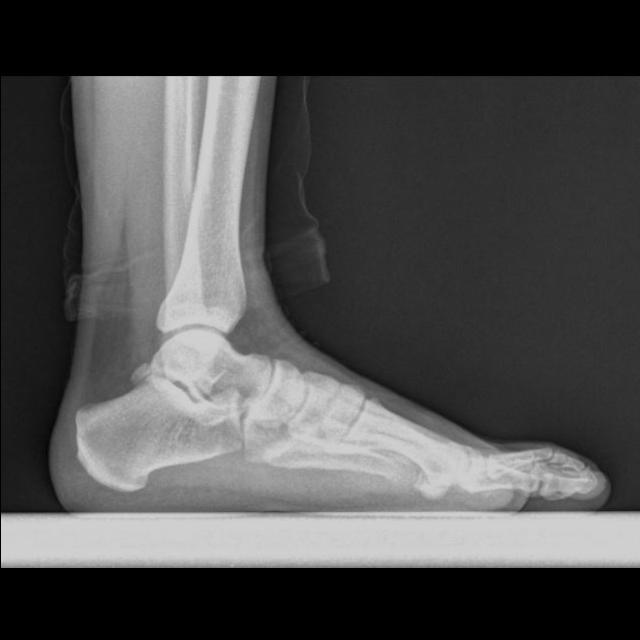a: (72, 362, 239, 495)
b: (252, 359, 305, 427)
c: (345, 396, 468, 503)
